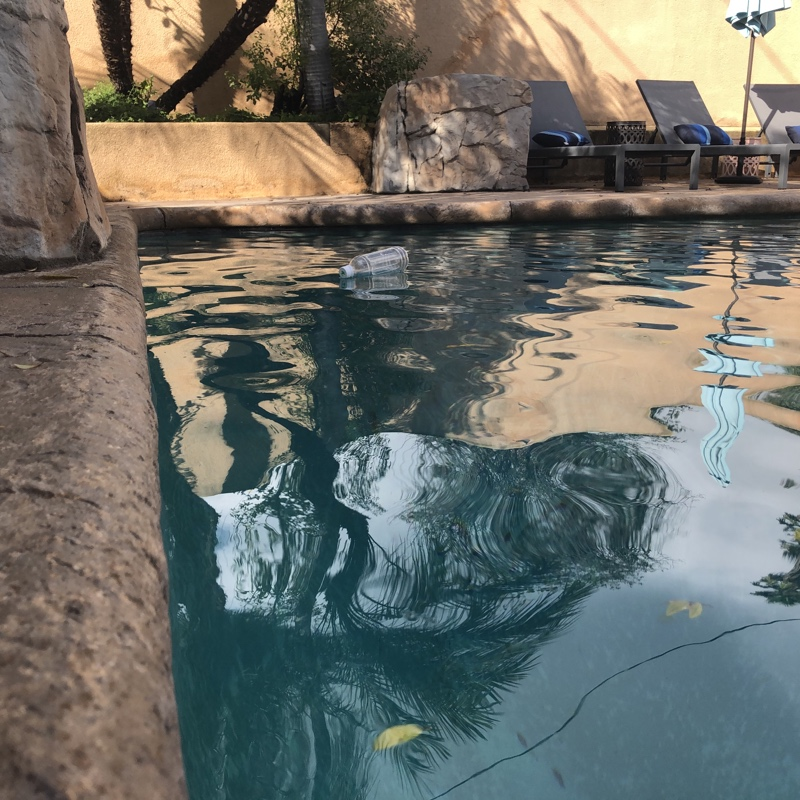Plastic Bottle: (340, 248, 414, 281)
